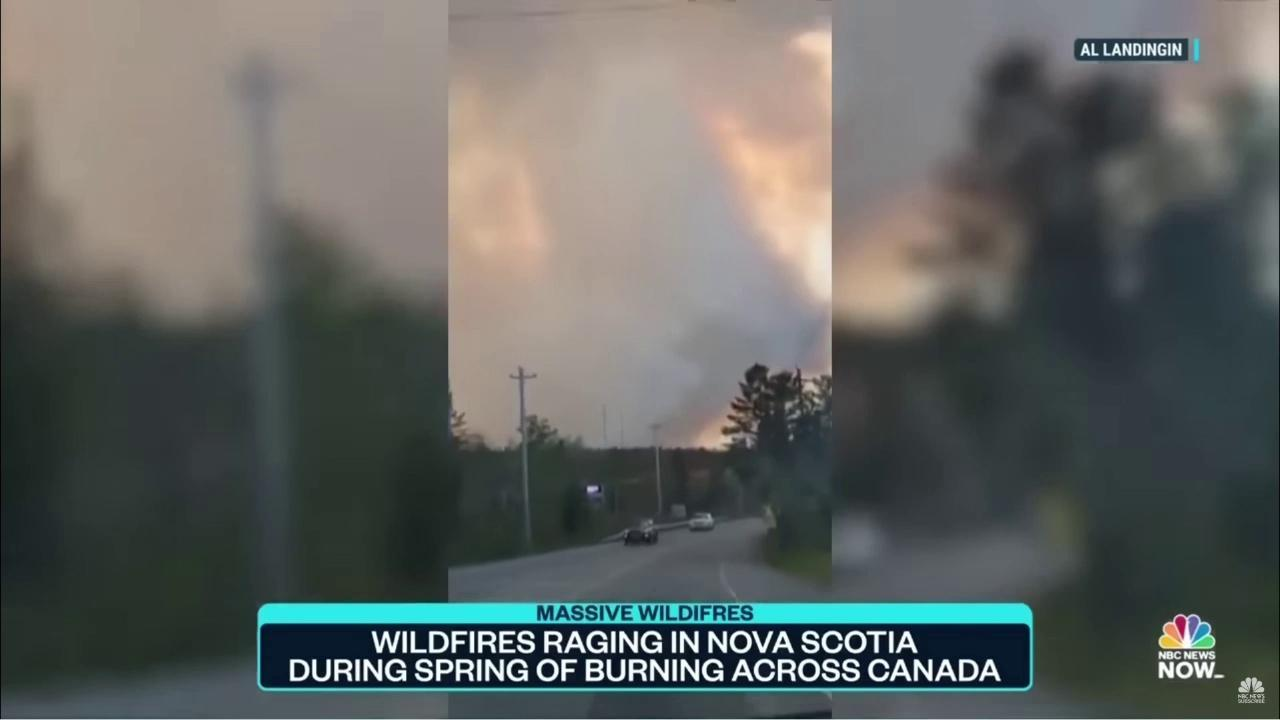smoke: (448, 0, 834, 451)
